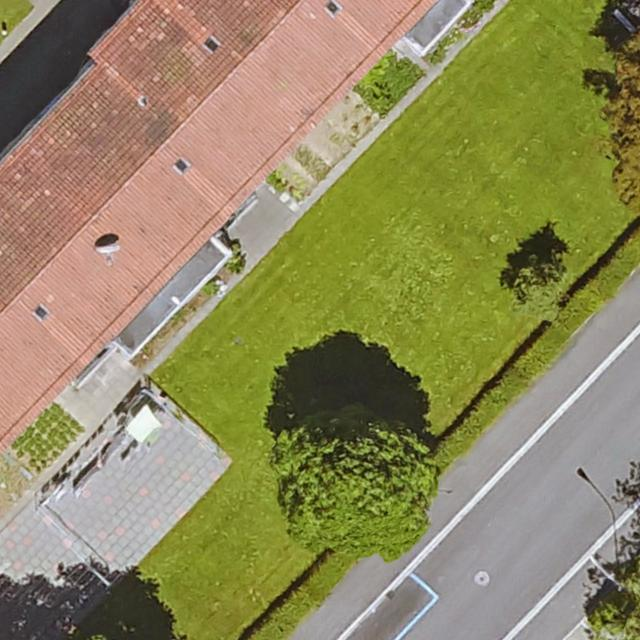tree: (277, 417, 435, 550), (607, 28, 640, 225), (588, 569, 640, 640), (510, 254, 566, 312)
